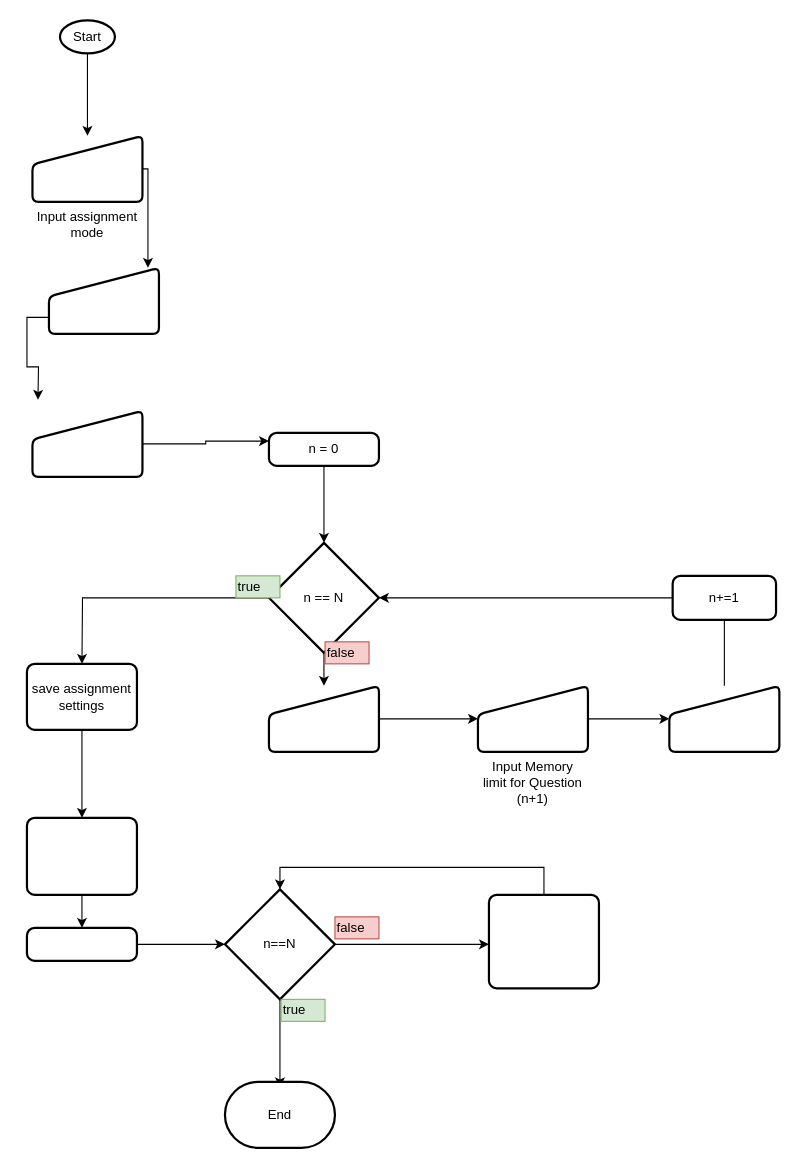
Some shapes in this 800 by 1167 pixel diagram are drawn without their labels. The shapes that lost their labels are listed below. From the top down, each one's centre as x and y in pixels, then its label:
At [103,300]: "Input assignment language".
At [87,443]: "Input number of questions (var N)".
At [323,718]: "Input Time limit for Question (n+1)".
At [724,718]: "input Test case Files for Question (n+1)".
At [81,855]: "create Assignment Database record".
At [81,943]: "n=0".
At [543,941]: "Create Db record for question n+1".
